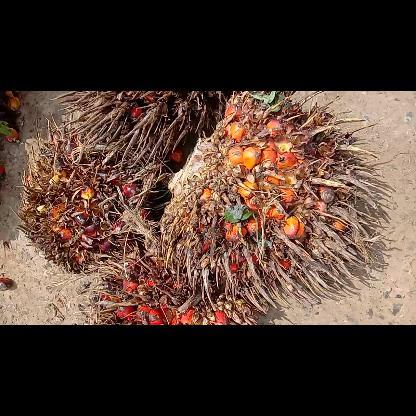Terlalu masak: (158, 90, 384, 314), (15, 118, 173, 274), (78, 234, 276, 324), (47, 91, 230, 169)
